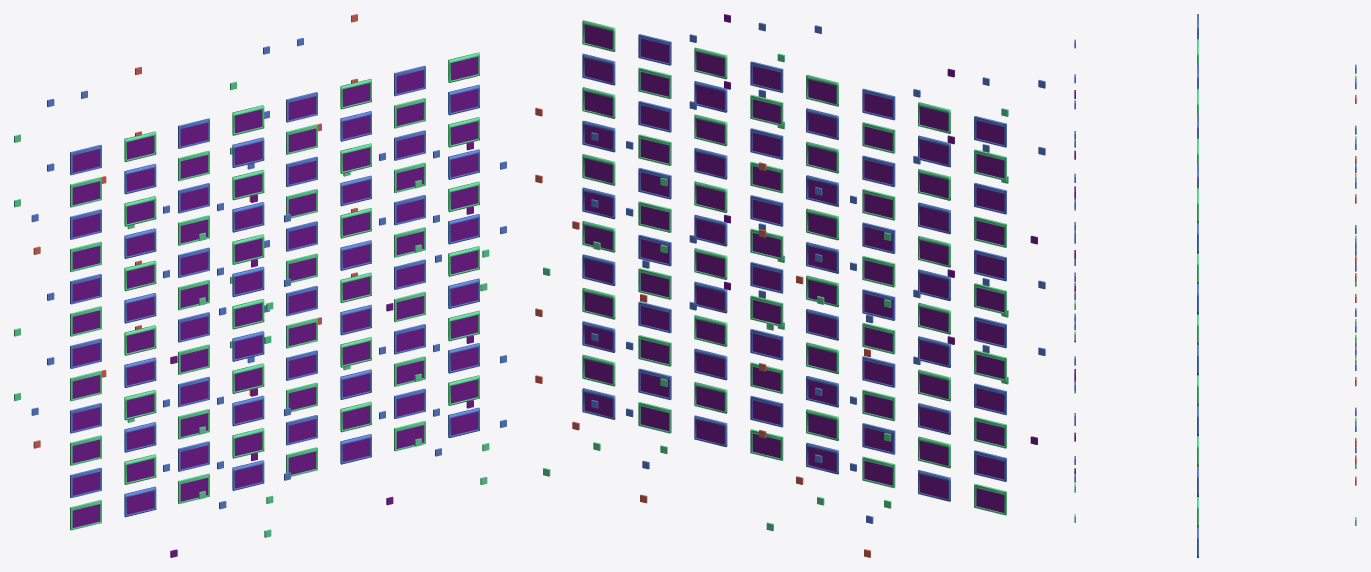
File: Scenario3.gltf
The picture shows the model from 3 angles, left to right: view 1: azimuth 30°, elevation 25°; view 2: azimuth 150°, elevation 25°; view 3: azimuth 270°, elevation 25°; orthographic projection. The views are drawn at different scales.
Bounding box in the file's own units: 133 × 117 × 84.16.
